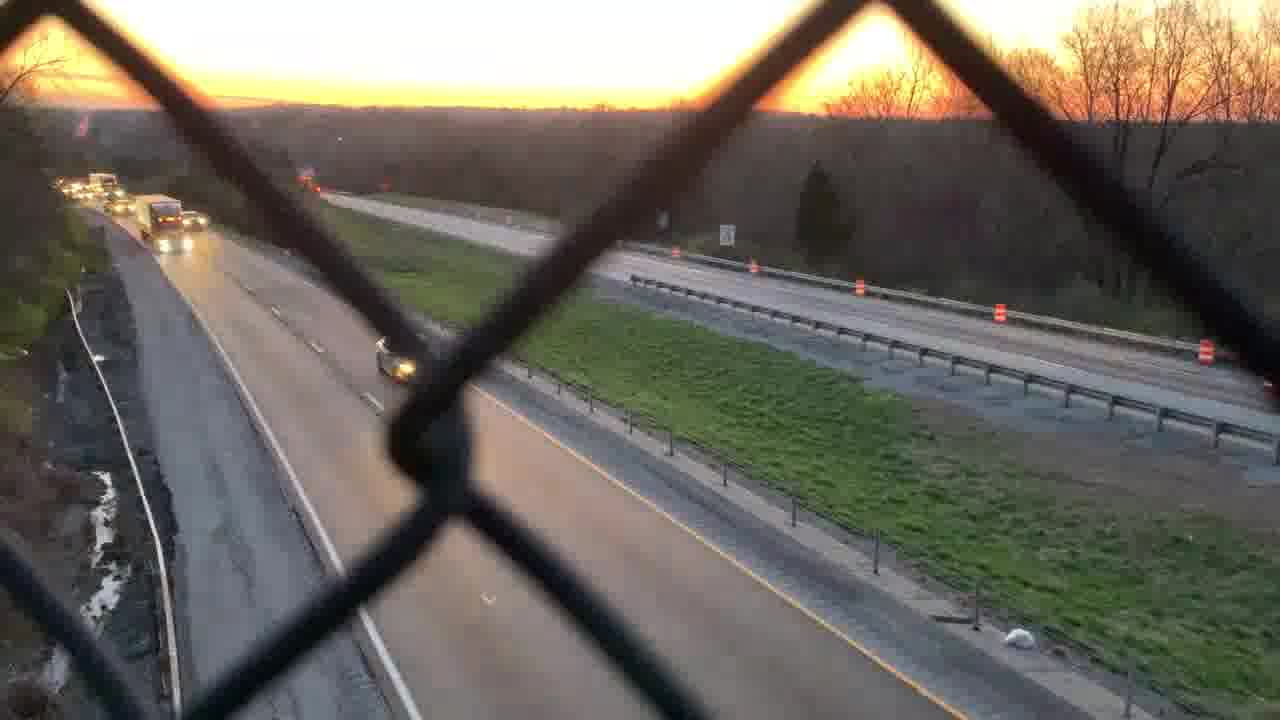heavyTruck: (131, 191, 195, 257)
